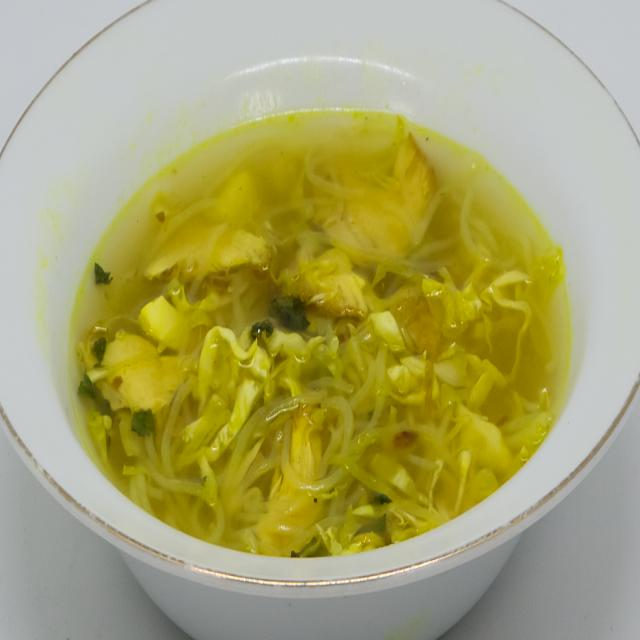Soto-Lamongan: (49, 84, 583, 579)
